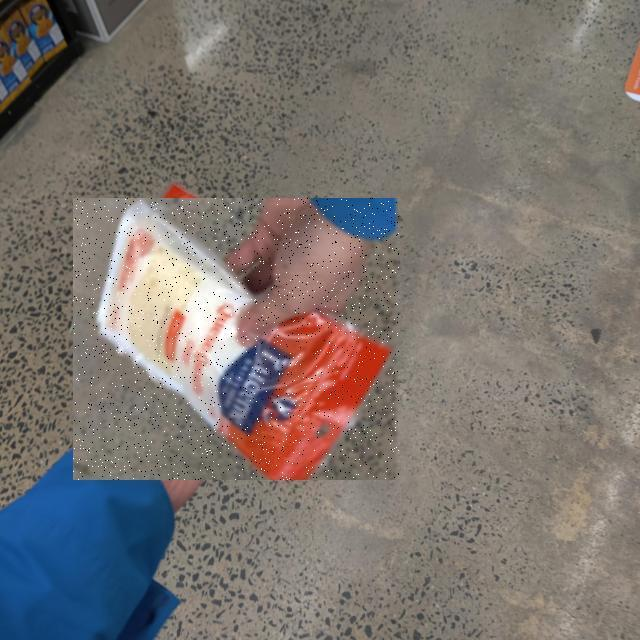Cheese: (74, 198, 400, 480)
